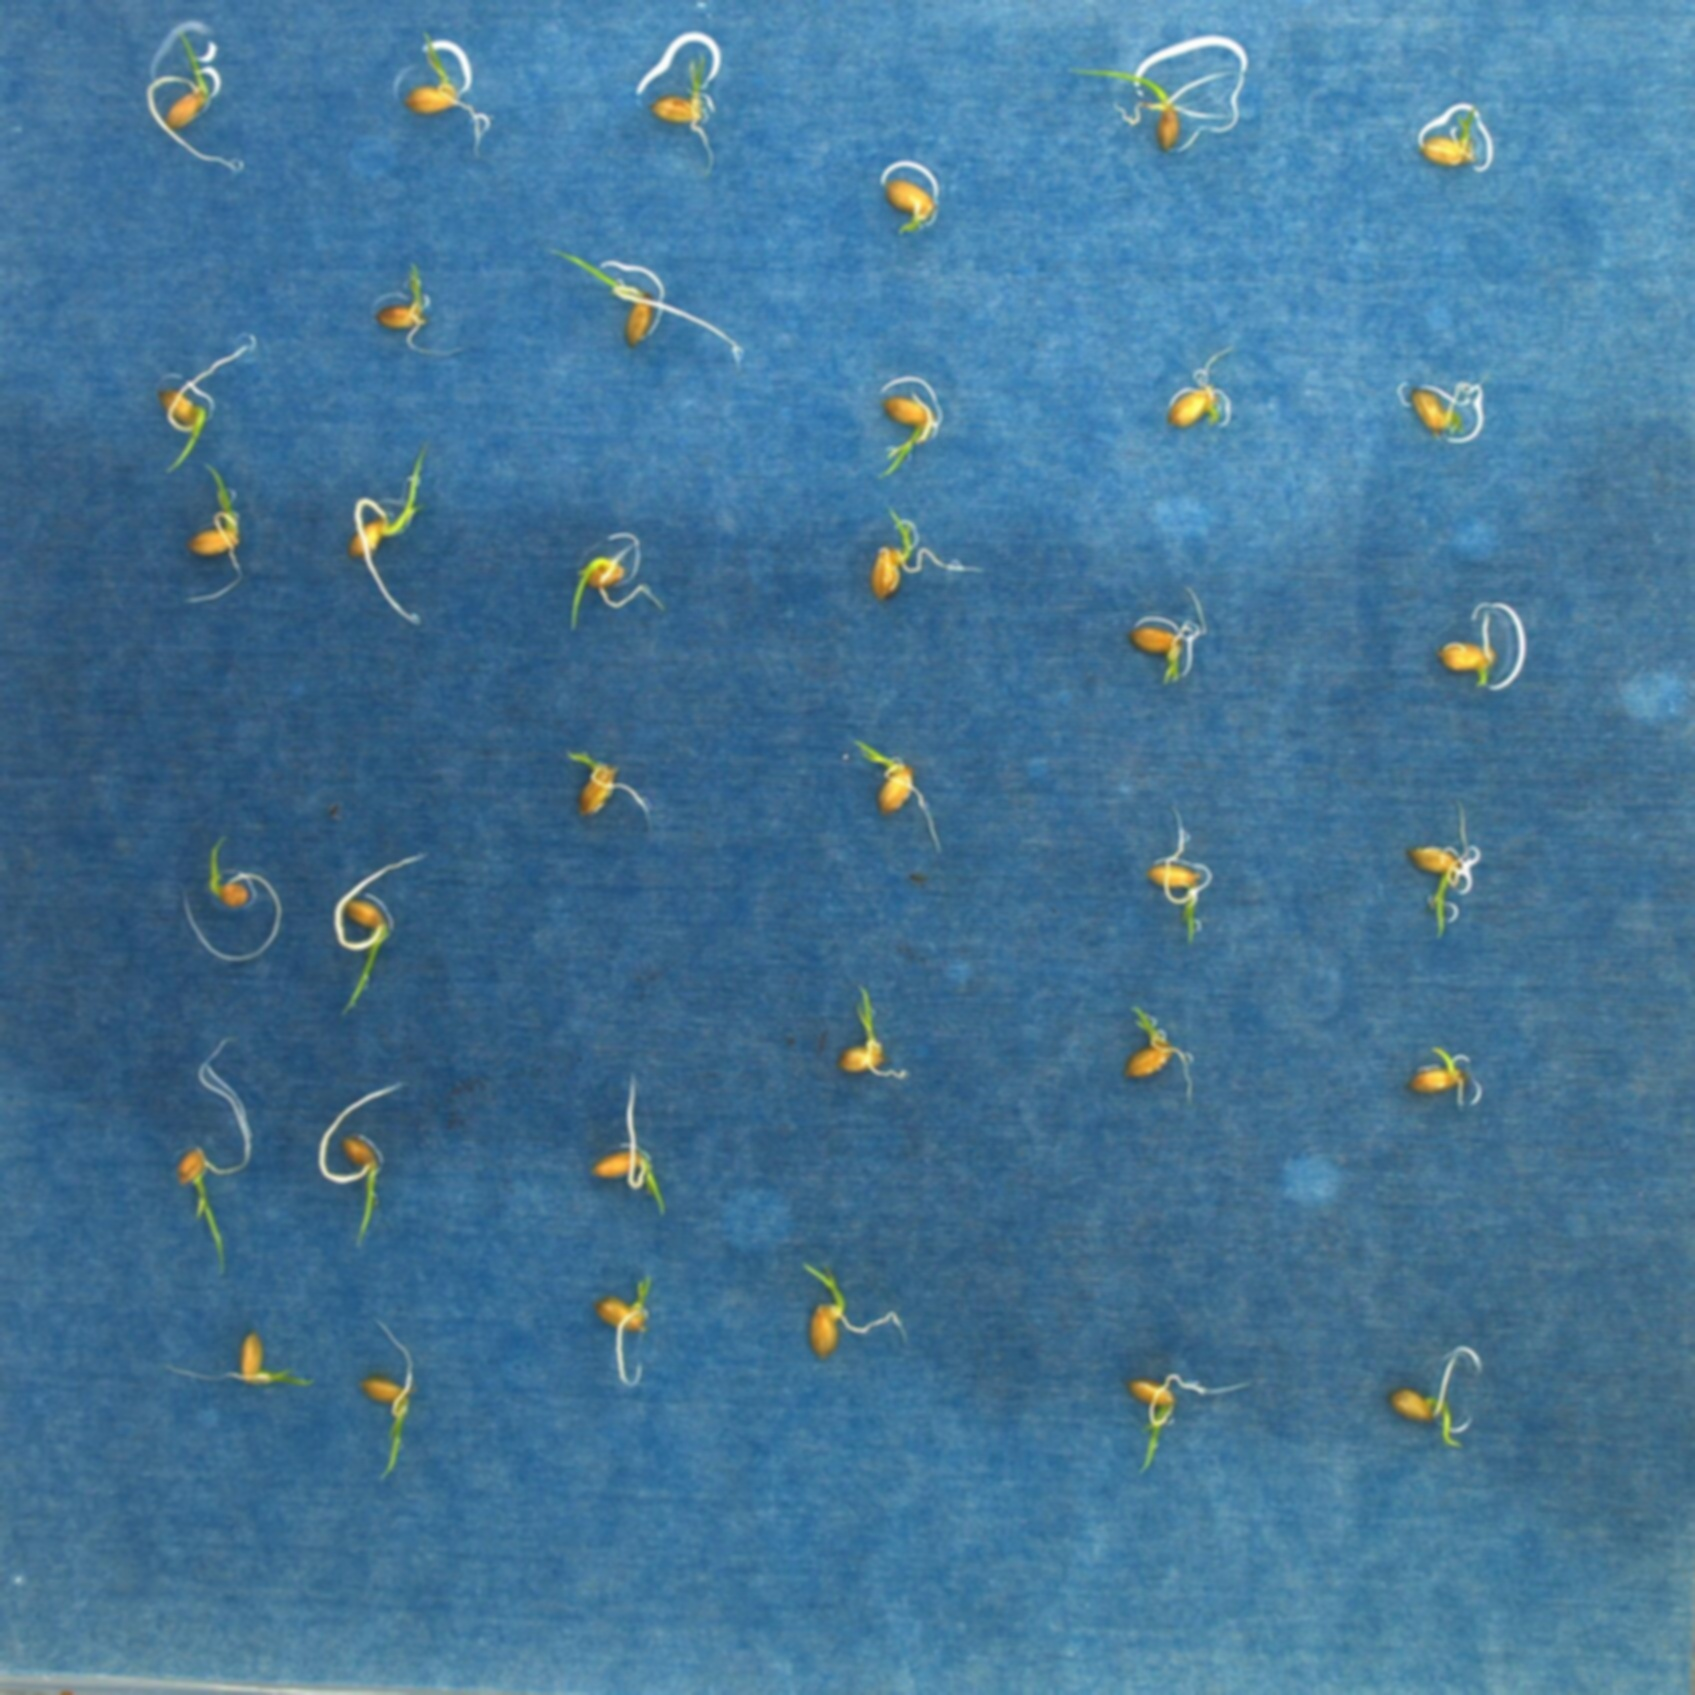not sprout: (1444, 608, 1499, 686)
sprout: (554, 241, 739, 363), (1057, 57, 1257, 151), (179, 1043, 251, 1276), (334, 849, 425, 1014), (345, 445, 425, 622), (320, 1083, 407, 1246), (155, 334, 256, 469), (149, 29, 244, 168), (180, 834, 282, 958), (799, 1256, 913, 1367), (1125, 1369, 1246, 1471), (847, 736, 948, 851), (1381, 1343, 1481, 1454), (868, 508, 983, 599), (563, 528, 663, 629), (650, 43, 725, 172), (591, 1076, 663, 1209), (168, 1327, 310, 1394), (182, 461, 247, 604), (411, 33, 489, 151), (829, 987, 917, 1088), (363, 1319, 418, 1482), (1146, 806, 1206, 948), (1406, 806, 1467, 938), (1116, 1006, 1201, 1096), (376, 269, 458, 359), (1132, 587, 1205, 681), (594, 1276, 655, 1380), (880, 386, 944, 481), (567, 751, 646, 818), (1403, 373, 1482, 436), (1169, 354, 1229, 432), (1417, 104, 1487, 169), (1409, 1042, 1475, 1108), (882, 175, 938, 234)
